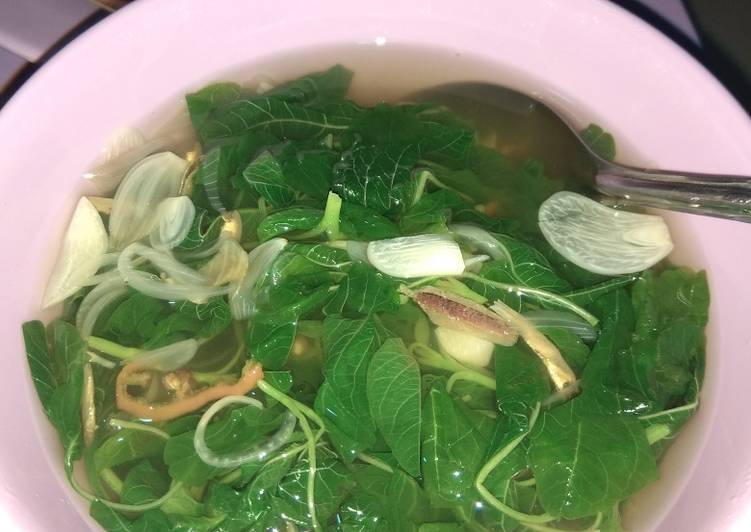Sayur Bayam: (49, 76, 693, 532)
